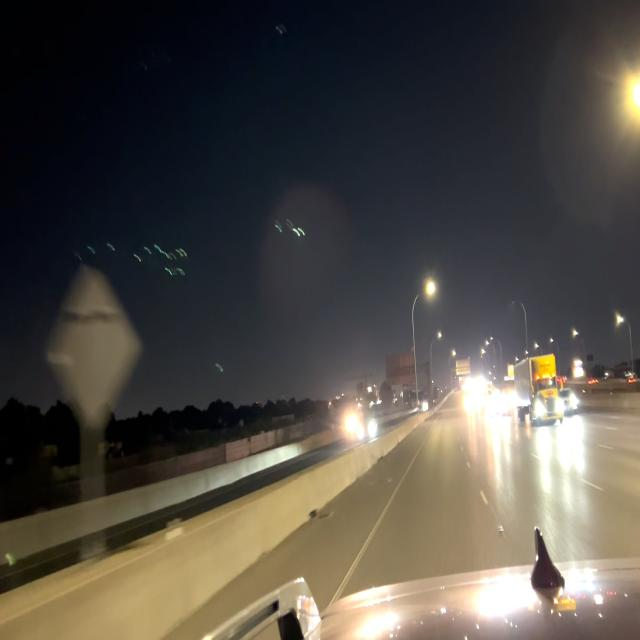back-of-sign: (388, 348, 416, 389)
